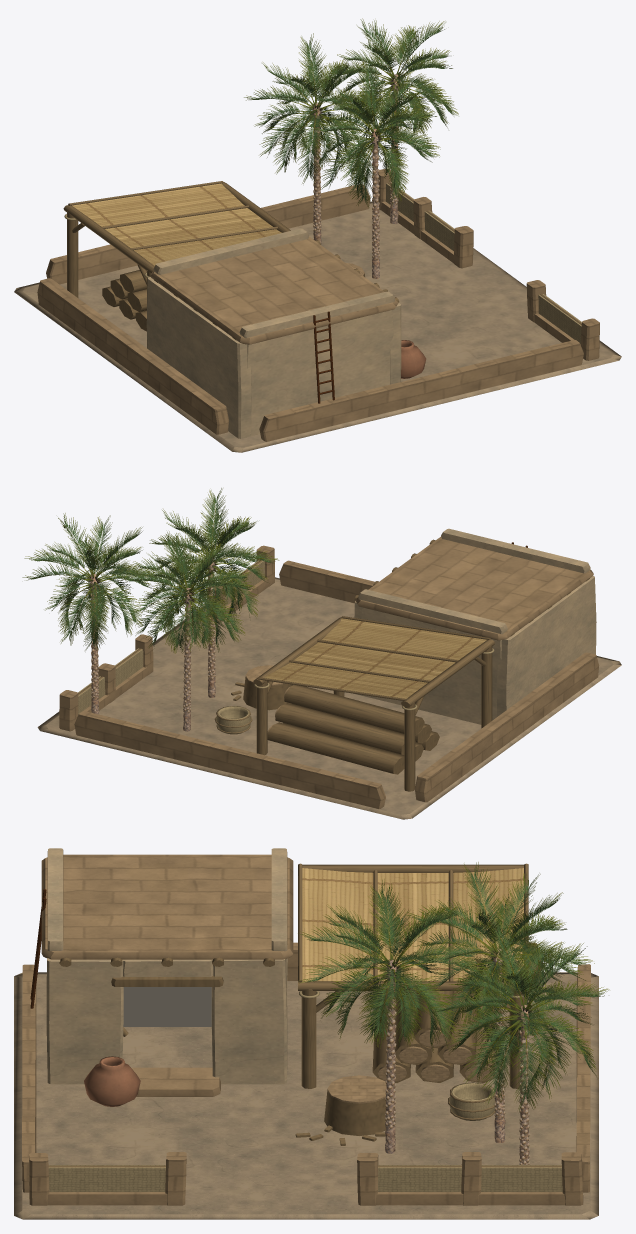
File: logging.glb
3 views of the same model, one above another, from view 1: azimuth 30°, elevation 25°; view 2: azimuth 150°, elevation 25°; view 3: azimuth 270°, elevation 25° (orthographic). The views are drawn at different scales.
Parts seen in each view (by area): view 1: original-logging-game-raw-brick-facing, original-logging-alluvial-earth, original-logging-warm-clay-plaster, game-date-palm-source-Tree_1Mat (×3), original-logging-laid-reed-thatch, original-logging-worn-timber, original-logging-reed-mat, roof-access-logging, original-logging-fired-pottery, game-date-palm-source-Tree_0Mat, game-date-palm-source-Tree_2Mat; view 2: original-logging-game-raw-brick-facing, original-logging-alluvial-earth, game-date-palm-source-Tree_1Mat (×3), original-logging-worn-timber, original-logging-warm-clay-plaster, original-logging-laid-reed-thatch, original-logging-reed-mat, game-date-palm-source-Tree_0Mat (×3), game-date-palm-source-Tree_2Mat; view 3: original-logging-alluvial-earth, original-logging-game-raw-brick-facing, game-date-palm-source-Tree_1Mat (×3), original-logging-warm-clay-plaster, original-logging-laid-reed-thatch, original-logging-worn-timber, original-logging-reed-mat, original-logging-game-door-shadow, game-date-palm-source-Tree_0Mat (×3), original-logging-fired-pottery, game-date-palm-source-Tree_2Mat (×2), game-date-palm-source-Tree_3Mat (×2).
Boxes of the visible parts, left/top/right/bottom form: original-logging-game-raw-brick-facing: left=37, top=169, right=599, bottom=441; original-logging-alluvial-earth: left=14, top=201, right=621, bottom=452; original-logging-warm-clay-plaster: left=146, top=228, right=401, bottom=438; game-date-palm-source-Tree_1Mat (×3): left=244, top=18, right=458, bottom=207; original-logging-laid-reed-thatch: left=72, top=183, right=281, bottom=265; original-logging-worn-timber: left=63, top=181, right=581, bottom=348; original-logging-reed-mat: left=64, top=182, right=581, bottom=343; roof-access-logging: left=313, top=311, right=334, bottom=403; original-logging-fired-pottery: left=401, top=340, right=426, bottom=378; game-date-palm-source-Tree_0Mat: left=371, top=129, right=380, bottom=278; game-date-palm-source-Tree_2Mat: left=372, top=148, right=379, bottom=260; original-logging-game-raw-brick-facing: left=59, top=536, right=599, bottom=808; original-logging-alluvial-earth: left=37, top=577, right=621, bottom=819; game-date-palm-source-Tree_1Mat (×3): left=22, top=488, right=279, bottom=653; original-logging-worn-timber: left=78, top=539, right=589, bottom=791; original-logging-warm-clay-plaster: left=354, top=528, right=596, bottom=724; original-logging-laid-reed-thatch: left=264, top=618, right=486, bottom=698; original-logging-reed-mat: left=78, top=559, right=494, bottom=734; game-date-palm-source-Tree_0Mat (×3): left=90, top=559, right=215, bottom=731; game-date-palm-source-Tree_2Mat: left=183, top=606, right=191, bottom=713; original-logging-alluvial-earth: left=14, top=972, right=598, bottom=1219; original-logging-game-raw-brick-facing: left=22, top=854, right=590, bottom=1205; game-date-palm-source-Tree_1Mat (×3): left=298, top=862, right=609, bottom=1110; original-logging-warm-clay-plaster: left=46, top=848, right=287, bottom=1084; original-logging-laid-reed-thatch: left=301, top=868, right=523, bottom=982; original-logging-worn-timber: left=48, top=863, right=561, bottom=1167; original-logging-reed-mat: left=48, top=991, right=562, bottom=1191; original-logging-game-door-shadow: left=123, top=987, right=211, bottom=1026; game-date-palm-source-Tree_0Mat (×3): left=385, top=948, right=529, bottom=1164; original-logging-fired-pottery: left=84, top=1056, right=140, bottom=1106; game-date-palm-source-Tree_2Mat (×2): left=385, top=986, right=529, bottom=1164; game-date-palm-source-Tree_3Mat (×2): left=361, top=938, right=554, bottom=1049.
Bounding box in the file's own units: 11.87 × 5.34 × 11.19.
13 materials, 12 textured.
